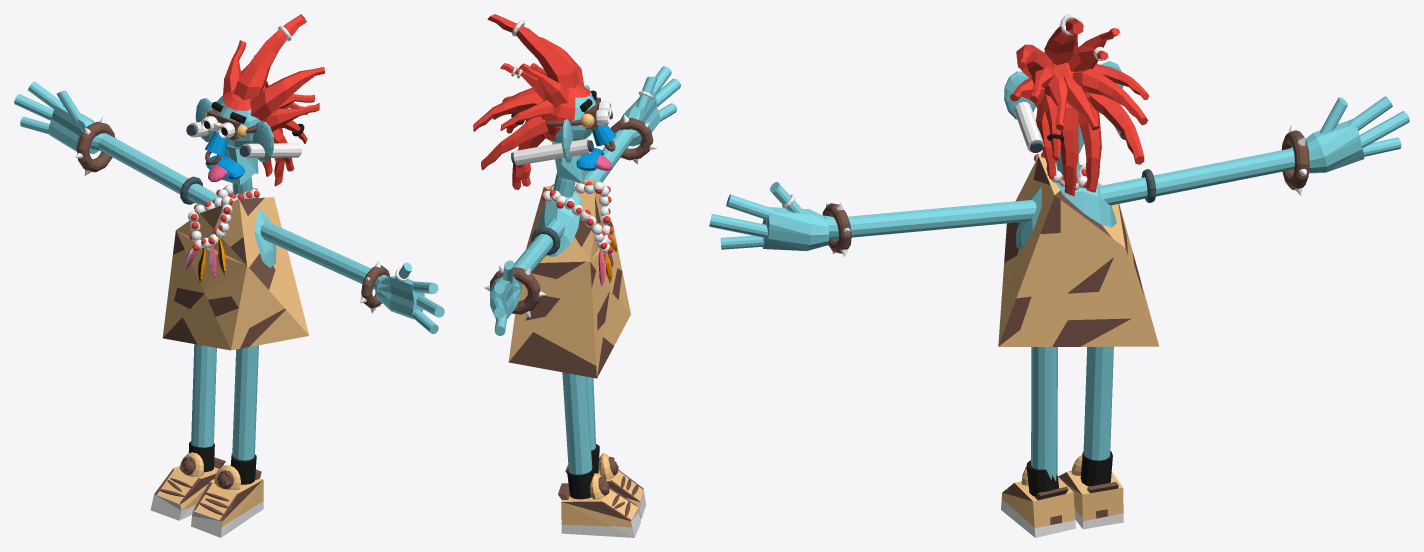
3 views of the same model, side by side, from view 1: azimuth 30°, elevation 25°; view 2: azimuth 150°, elevation 25°; view 3: azimuth 270°, elevation 25° (orthographic). The views are drawn at different scales.
Parts seen in each view (by area): view 1: group788433124, group361384065, group1734898259, group1202093139, group774126366, group1703165882, group1411970257, group771421896, group869890138, group1254533843, group1142031289, group196368634 (+9 smaller); view 2: group788433124, group1411970257, group1202093139, group771421896, group196368634, group1590267091, group1102338049, group774126366, group357775683, group775715577, group1703165882, group1441415069 (+21 smaller); view 3: group788433124, group1703165882, group774126366, group1734898259, group1202093139, group361384065, group1254533843, group1411970257, group1142031289, group1590267091, group775715577, group376126457 (+7 smaller).
Boxes of the visible parts, x1=… form: group788433124: x1=162, y1=197, x2=309, y2=350; group361384065: x1=191, y1=469, x2=263, y2=537; group1734898259: x1=232, y1=345, x2=258, y2=460; group1202093139: x1=191, y1=344, x2=216, y2=447; group774126366: x1=90, y1=133, x2=217, y2=205; group1703165882: x1=260, y1=221, x2=388, y2=292; group1411970257: x1=150, y1=457, x2=225, y2=520; group771421896: x1=233, y1=14, x2=306, y2=100; group869890138: x1=250, y1=67, x2=324, y2=121; group1254533843: x1=375, y1=275, x2=424, y2=319; group1142031289: x1=47, y1=105, x2=98, y2=153; group196368634: x1=213, y1=90, x2=260, y2=149; group788433124: x1=508, y1=179, x2=630, y2=378; group1411970257: x1=558, y1=483, x2=640, y2=537; group1202093139: x1=562, y1=372, x2=592, y2=474; group771421896: x1=487, y1=14, x2=579, y2=88; group196368634: x1=541, y1=84, x2=595, y2=143; group1590267091: x1=538, y1=192, x2=580, y2=256; group1102338049: x1=513, y1=138, x2=590, y2=165; group774126366: x1=514, y1=218, x2=564, y2=292; group357775683: x1=481, y1=116, x2=548, y2=170; group775715577: x1=473, y1=88, x2=542, y2=131; group1703165882: x1=584, y1=129, x2=639, y2=182; group1441415069: x1=490, y1=267, x2=540, y2=314; group788433124: x1=998, y1=156, x2=1159, y2=346; group1703165882: x1=823, y1=200, x2=1036, y2=239; group774126366: x1=1100, y1=147, x2=1294, y2=205; group1734898259: x1=1031, y1=347, x2=1057, y2=480; group1202093139: x1=1083, y1=346, x2=1113, y2=460; group361384065: x1=1001, y1=477, x2=1075, y2=537; group1254533843: x1=762, y1=207, x2=829, y2=251; group1411970257: x1=1058, y1=471, x2=1123, y2=529; group1142031289: x1=1306, y1=119, x2=1364, y2=173; group1590267091: x1=1016, y1=183, x2=1116, y2=249; group775715577: x1=1072, y1=68, x2=1148, y2=125; group376126457: x1=1060, y1=102, x2=1078, y2=196.
Bounding box in the file's own units: 0.48 × 1.4 × 1.61.
